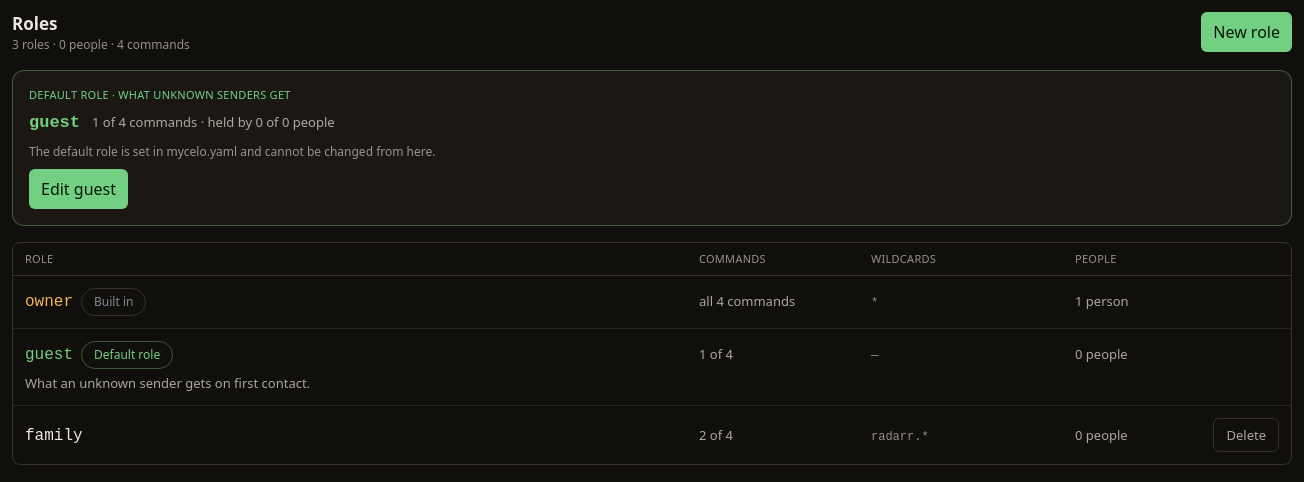
Test: the roles list › deletes an ordinary role and removes it from the list
Expected: the list item with test id "role-family" is shown, [25, 418, 1279, 452]
Step 1. Click the button "Delete" → (1246,435), box [1214, 418, 1279, 452]
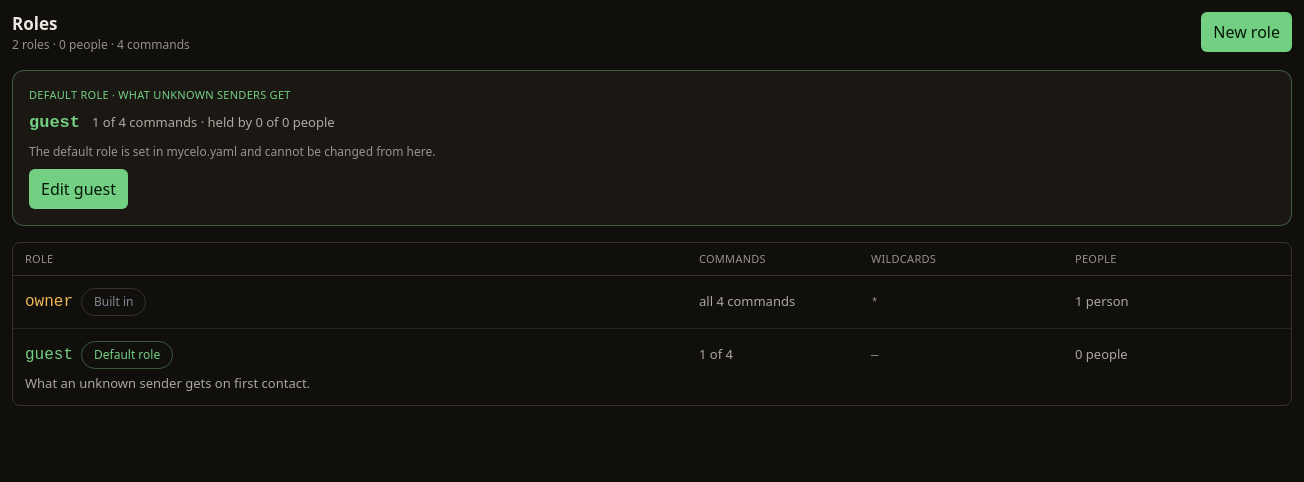
Expected: the list item with test id "role-family" is gone
